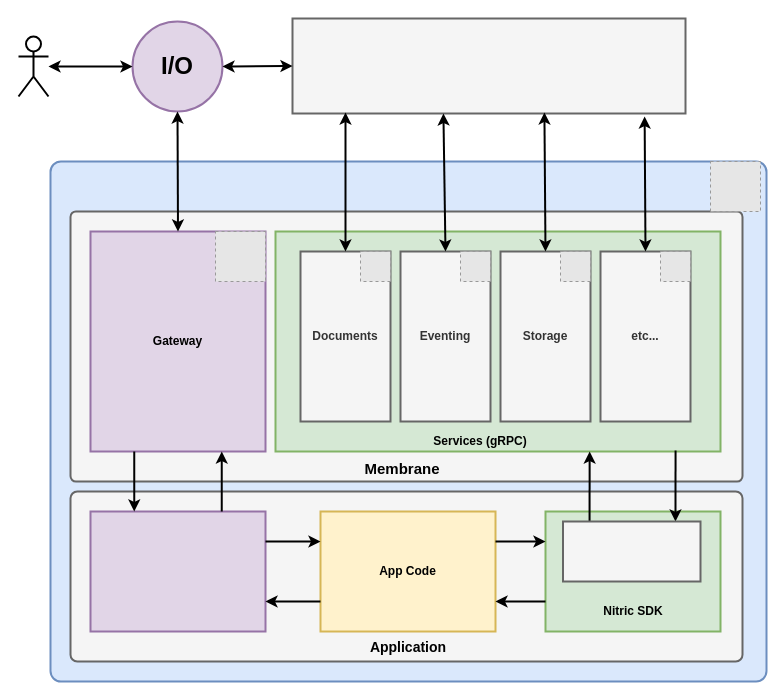
The diagram is 784 pixels wide and 699 high, and some of its shapes have lost their labels. Grey dashed boxes stand in for pictures. The centre of each missing label's shape, as x and y in pixels:
"Actor" goes at [33,66].
"Entrypoint (HTTP)" goes at [177,571].
"Nitric Client (gRPC)" goes at [631,551].
"Provider Services" goes at [488,65].
